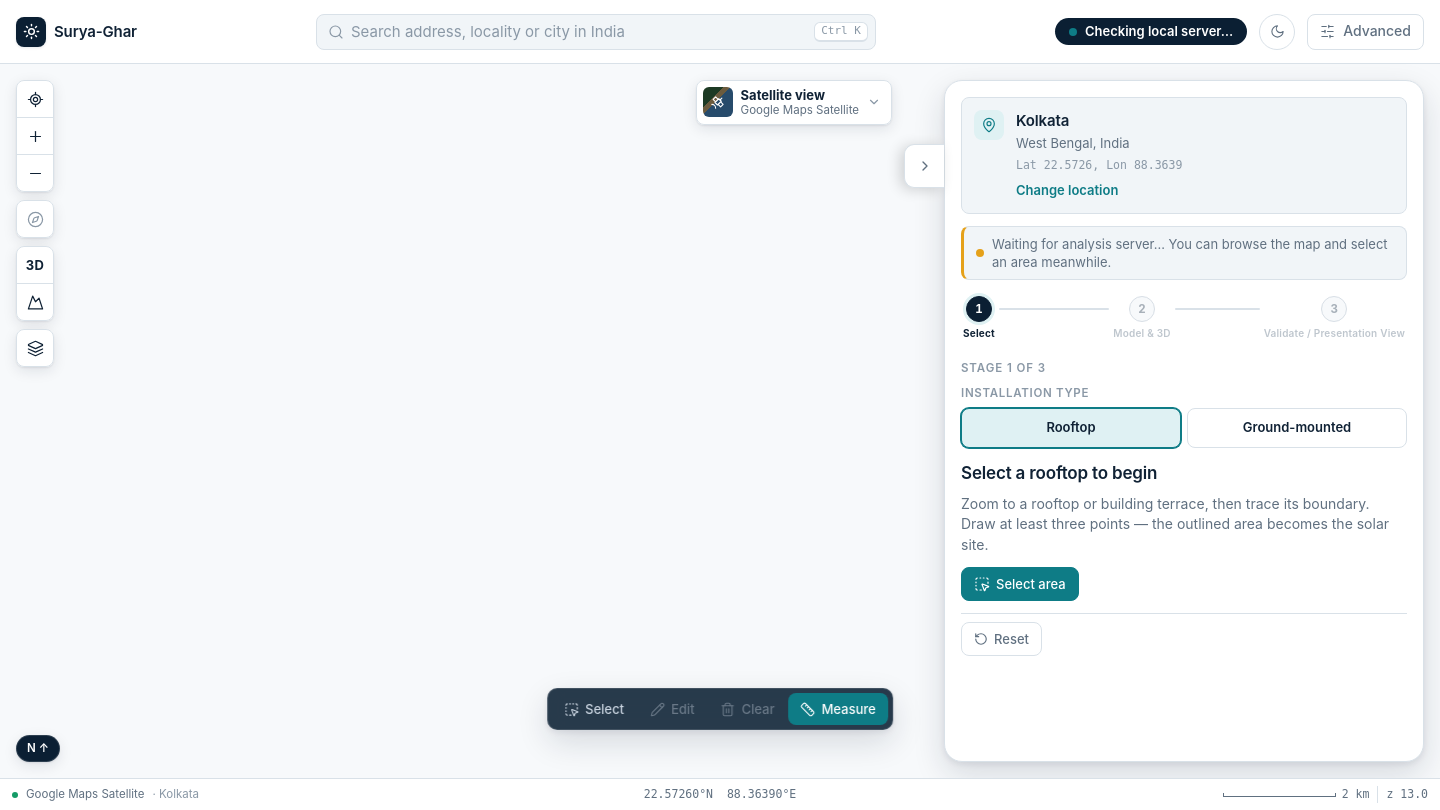
Test: App workspace › keeps advanced controls hidden until advanced mode is enabled
The image size is (1440, 810).
Step 1. Click the button named "Map layers" → (35,348), box [17, 330, 53, 366]
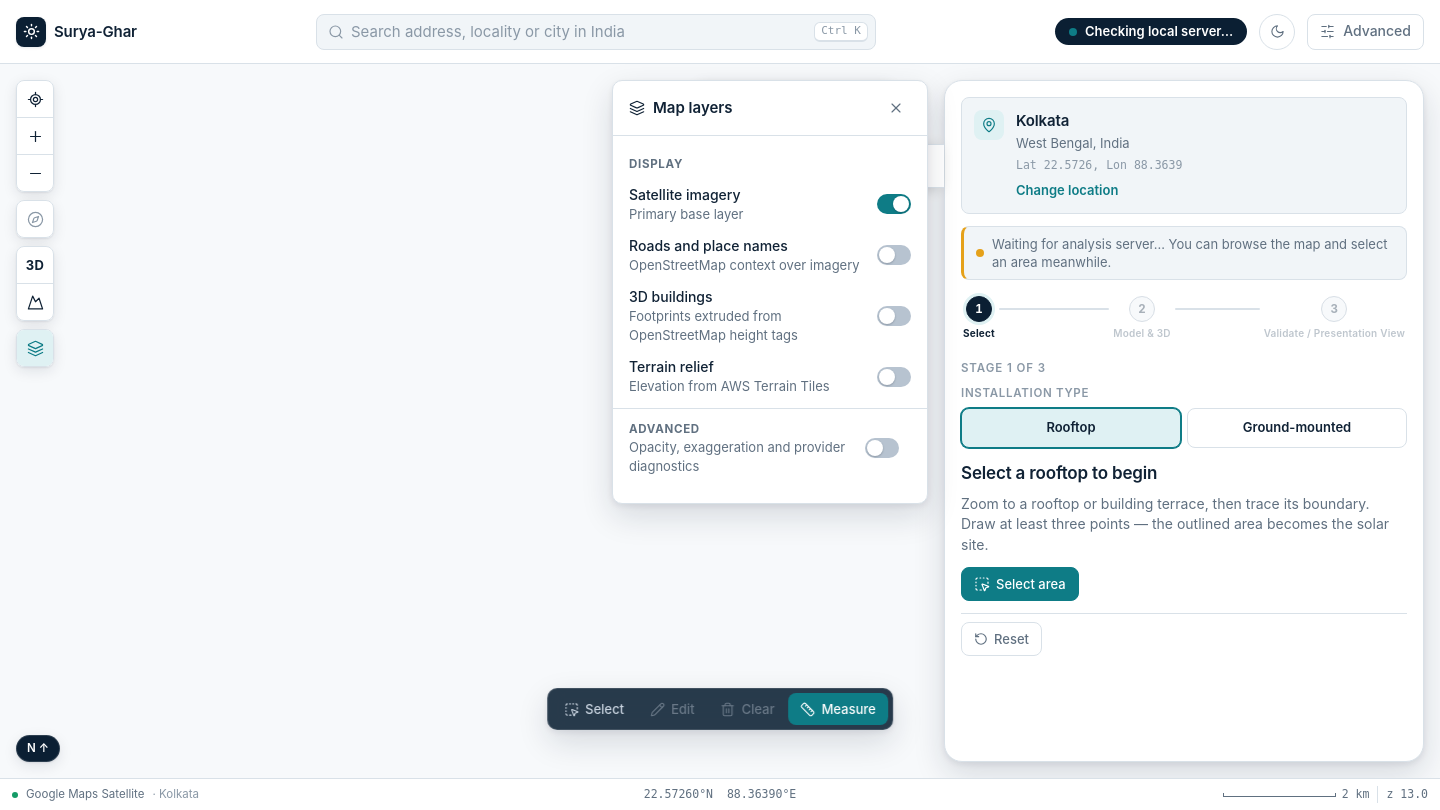
Check: the slider labelled "Satellite opacity" is not shown
Step 2. Click the checkbox named "Advanced mode" → (882,448), box [865, 438, 899, 458]
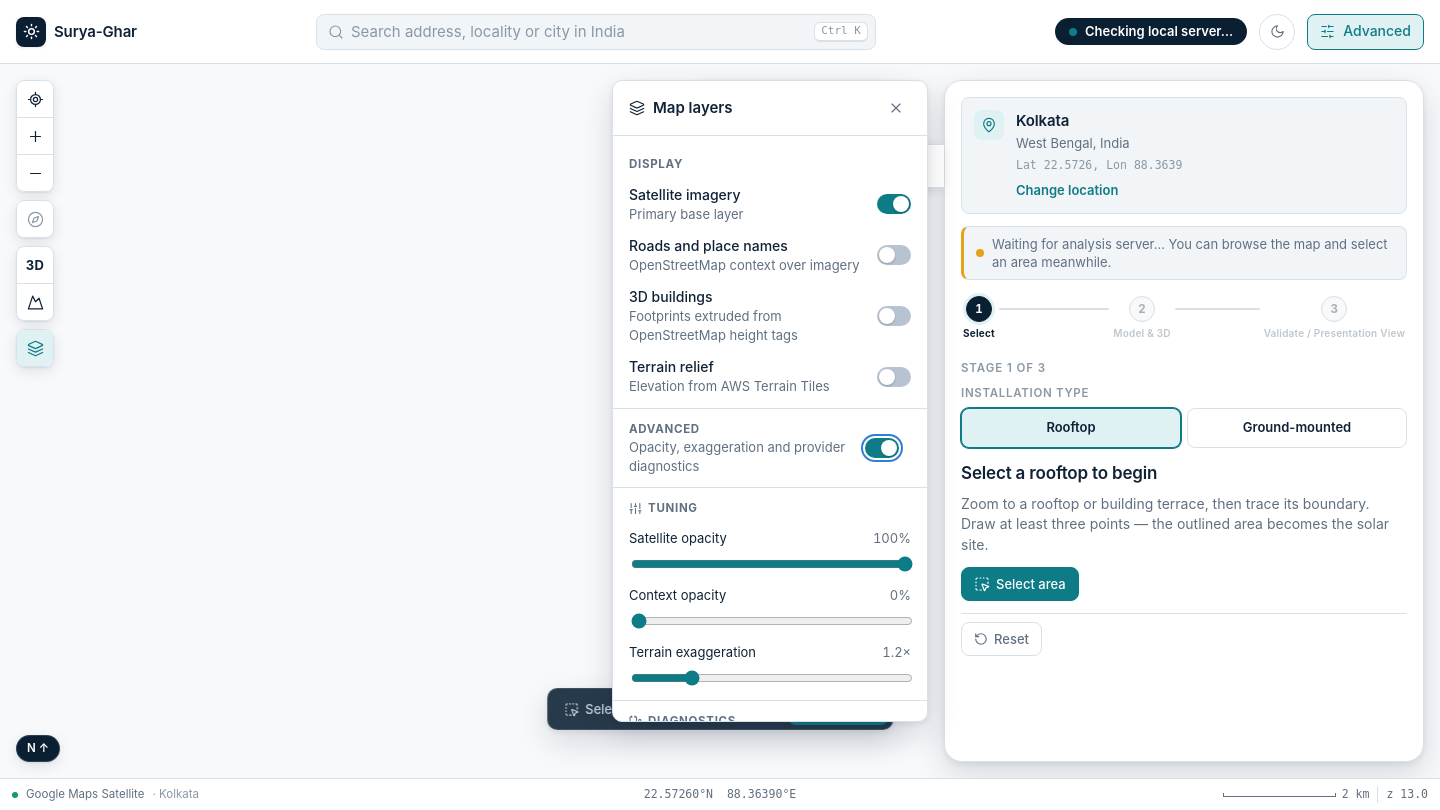
Check: the slider labelled "Satellite opacity 100%" is shown, box [631, 556, 913, 572]
